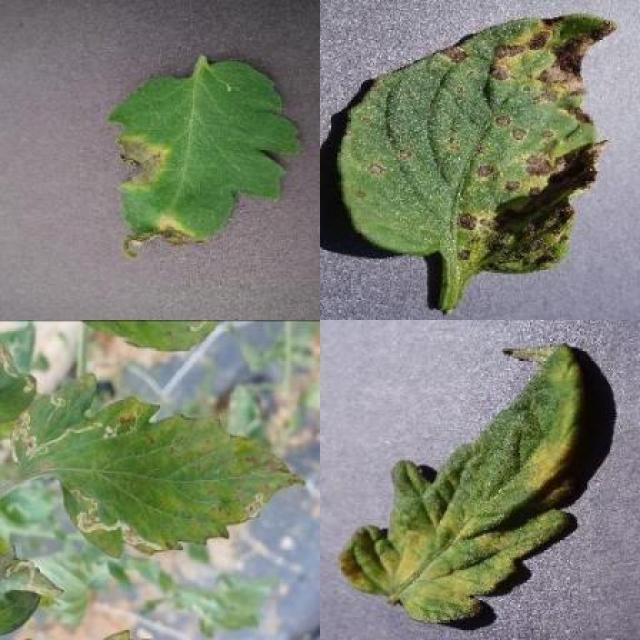Late Blight: (107, 62, 303, 267)
Leaf Miner: (9, 373, 307, 560)
Leaf Mold: (339, 342, 585, 622)
Septoria: (340, 13, 619, 273)
